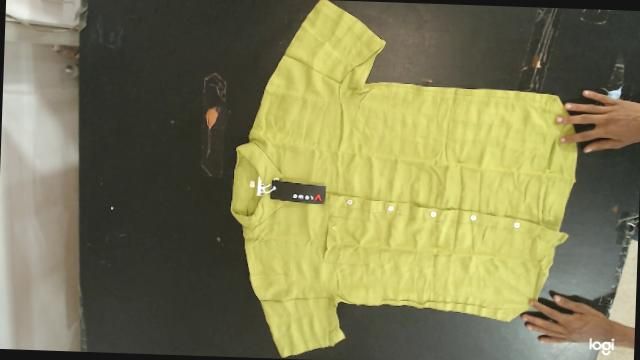new-garment: (231, 0, 576, 356)
